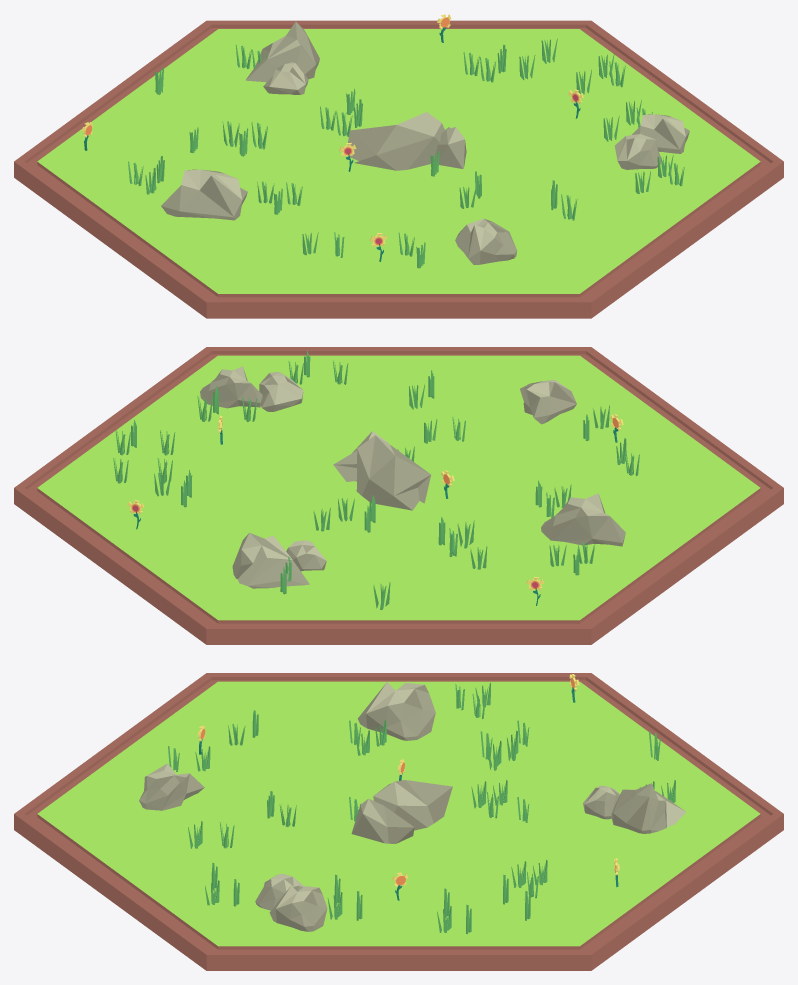
The model's file is Hexagon_Grass.glb.
The picture shows the model from 3 angles, top to bottom: view 1: azimuth 30°, elevation 25°; view 2: azimuth 150°, elevation 25°; view 3: azimuth 270°, elevation 25°; orthographic projection.
Parts seen in each view (by area): view 1: Circle, Plane.017, Icosphere, Sphere.001, Sphere.002, Sphere.005, Sphere.003, Sphere.004, Sphere, Icosphere.001; view 2: Circle, Plane.017, Icosphere, Sphere.001, Sphere.002, Sphere.005, Sphere.003, Sphere.004, Sphere, Icosphere.001; view 3: Circle, Plane.017, Sphere.001, Icosphere, Sphere.002, Sphere.003, Sphere.005, Icosphere.001, Sphere.004, Sphere.
Boxes of the visible parts, <box> form: Circle: <box>14,20,783,318</box>; Plane.017: <box>128,38,684,268</box>; Icosphere: <box>348,112,444,170</box>; Sphere.001: <box>161,169,247,220</box>; Sphere.002: <box>245,21,319,82</box>; Sphere.005: <box>455,218,517,264</box>; Sphere.003: <box>632,114,689,153</box>; Sphere.004: <box>615,134,660,169</box>; Sphere: <box>263,62,308,94</box>; Icosphere.001: <box>434,127,466,168</box>; Circle: <box>14,347,783,644</box>; Plane.017: <box>113,350,639,609</box>; Icosphere: <box>356,435,430,510</box>; Sphere.001: <box>541,493,625,546</box>; Sphere.002: <box>232,533,309,588</box>; Sphere.005: <box>520,380,576,424</box>; Sphere.003: <box>200,366,262,408</box>; Sphere.004: <box>259,372,303,411</box>; Sphere: <box>286,540,326,571</box>; Icosphere.001: <box>333,431,387,481</box>; Circle: <box>14,673,783,970</box>; Plane.017: <box>168,682,675,934</box>; Sphere.001: <box>357,682,435,740</box>; Icosphere: <box>373,780,452,830</box>; Sphere.002: <box>611,783,686,833</box>; Sphere.003: <box>269,885,327,931</box>; Sphere.005: <box>139,763,204,810</box>; Icosphere.001: <box>351,798,414,843</box>; Sphere.004: <box>255,874,304,910</box>; Sphere: <box>583,785,619,819</box>.
Bounding box in the file's own units: 30.17 × 3.2 × 34.84.
Materials: 4 (4 with a texture image).
